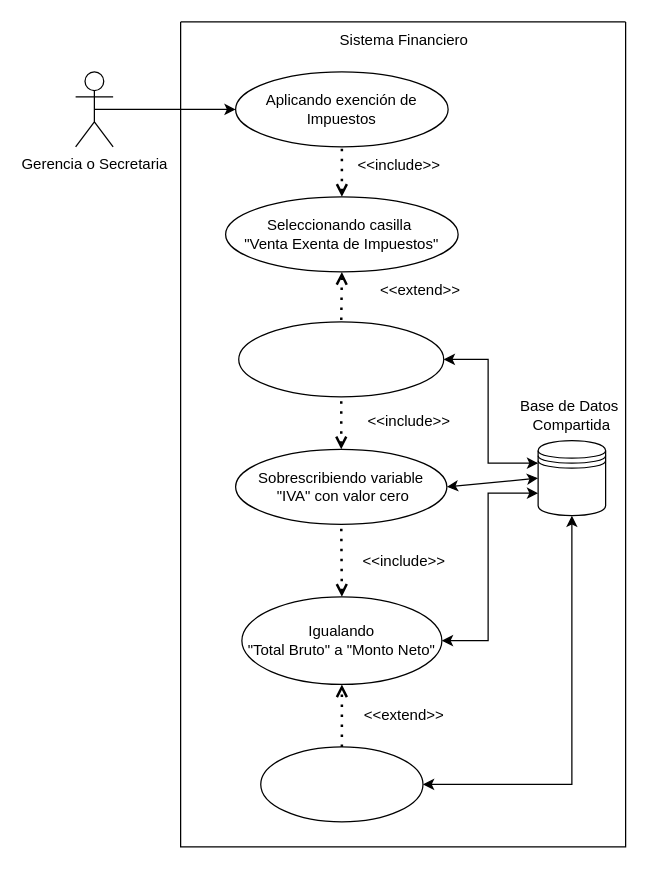
The diagram is 663 pixels wide and 869 high, and some of its shapes have lost their labels. The shapes that lost their labels are listed below. From the top down, each one's centre as x and y in pixels, then its label:
At (x=341, y=359): "Capturando cálculo de impuestos".
At (x=341, y=784): "Eliminando fila impuestos".
